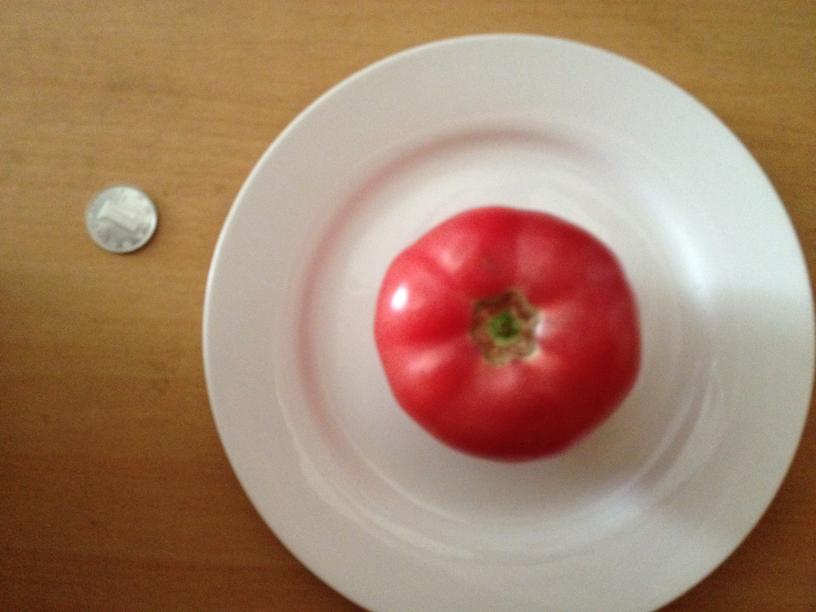coin: (84, 181, 158, 253)
tomato: (366, 205, 644, 461)
